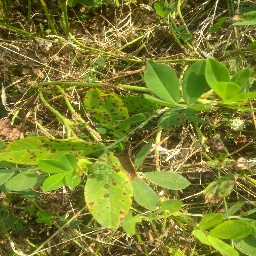GroundNut_Leaf: (87, 151, 133, 229), (4, 135, 81, 165), (84, 88, 130, 136), (144, 58, 180, 102), (203, 57, 230, 100), (148, 169, 189, 190), (210, 221, 252, 239), (44, 174, 83, 193), (5, 171, 41, 190), (157, 110, 181, 132)
